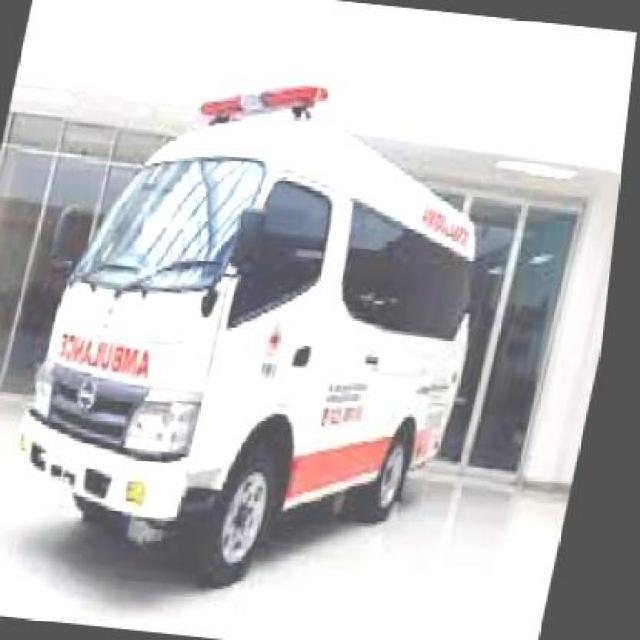emergency-vehicle: (1, 71, 522, 598)
